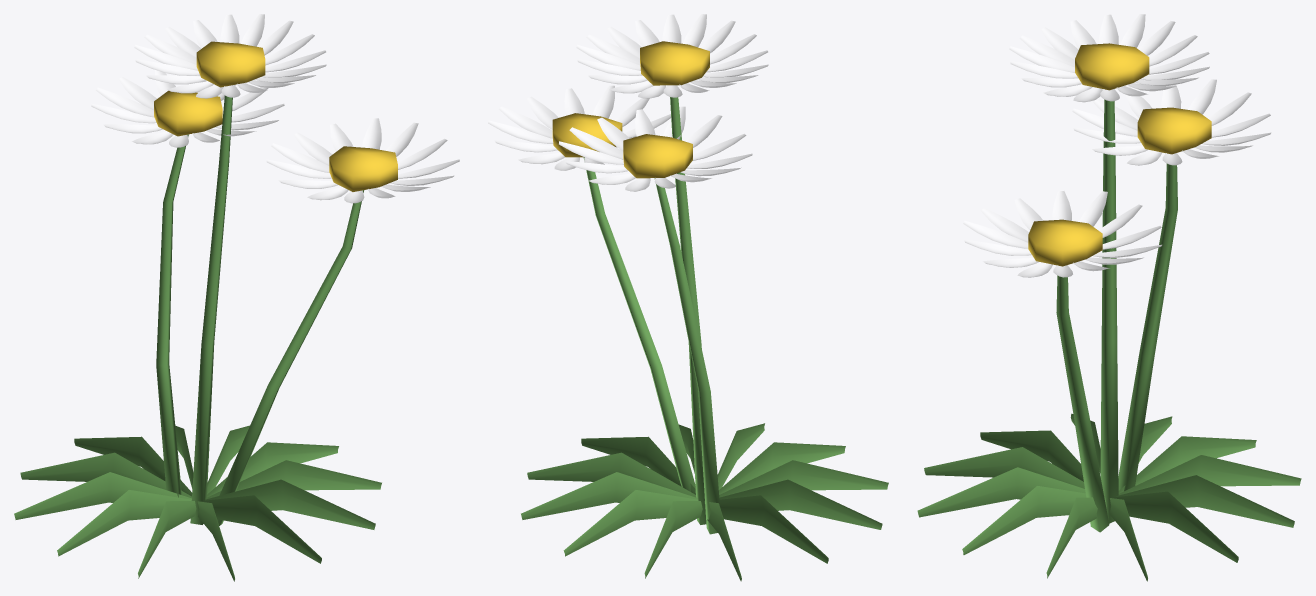
The model's file is flower_oxeye_daisy.glb.
3 views of the same model, side by side, from view 1: azimuth 30°, elevation 25°; view 2: azimuth 150°, elevation 25°; view 3: azimuth 270°, elevation 25° (orthographic). The views are drawn at different scales.
Visible parts, largest first — view 1: Flora_Oxeye_Daisy; view 2: Flora_Oxeye_Daisy; view 3: Flora_Oxeye_Daisy.
Boxes of the visible parts, <box> form: Flora_Oxeye_Daisy: <box>14,14,459,581</box>; Flora_Oxeye_Daisy: <box>488,14,888,581</box>; Flora_Oxeye_Daisy: <box>917,14,1301,581</box>.
Size of the model in its own units: 0.5962 by 0.6914 by 0.4926.
